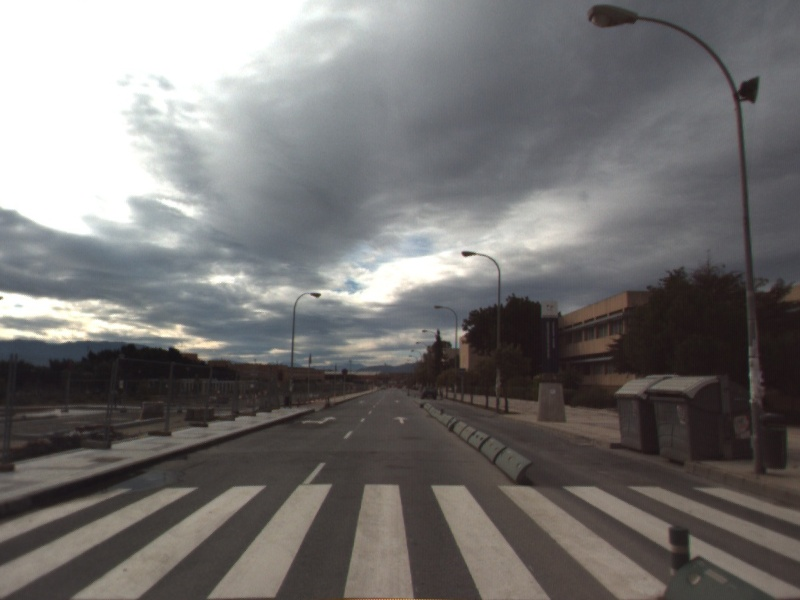STRAIGHT: (391, 414, 410, 426)
STRAIGHT_LEFT: (299, 414, 338, 427)
